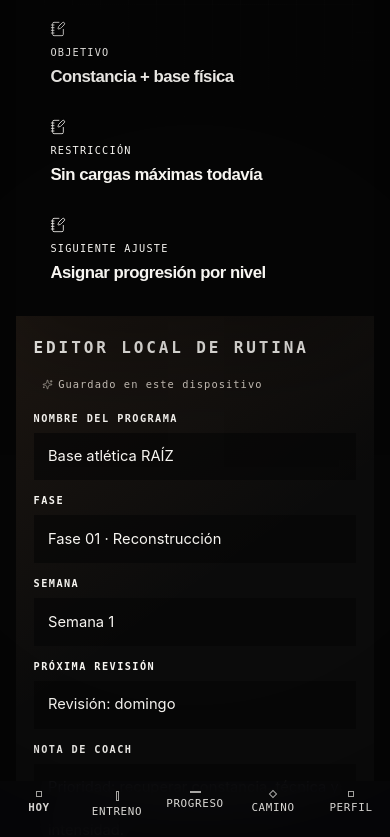
Test: BAYONA OS · TODAY es el panel de mando › permite estructurar el programa del cliente y guardarlo localmente
(page scrolled)
Step 1. Replace the text in the field labelled "Nombre del programa" with "Hipertrofia ELITE · Semana 04" → x=195, y=456, box [34, 432, 356, 480]
(page scrolled)
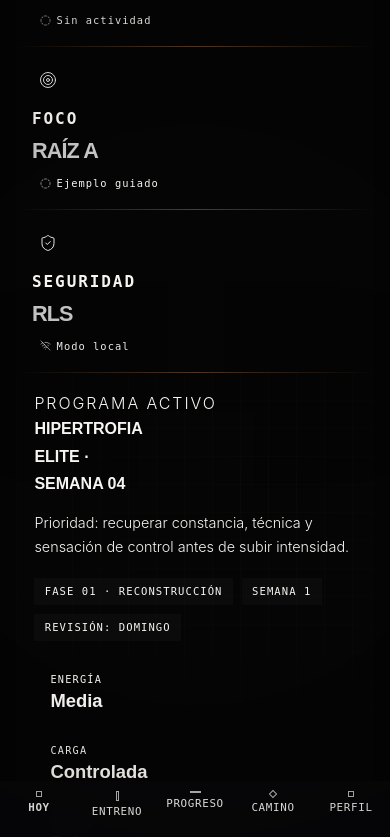
Expected: the heading "Hipertrofia ELITE · Semana 04" is shown, [34, 415, 141, 498]
